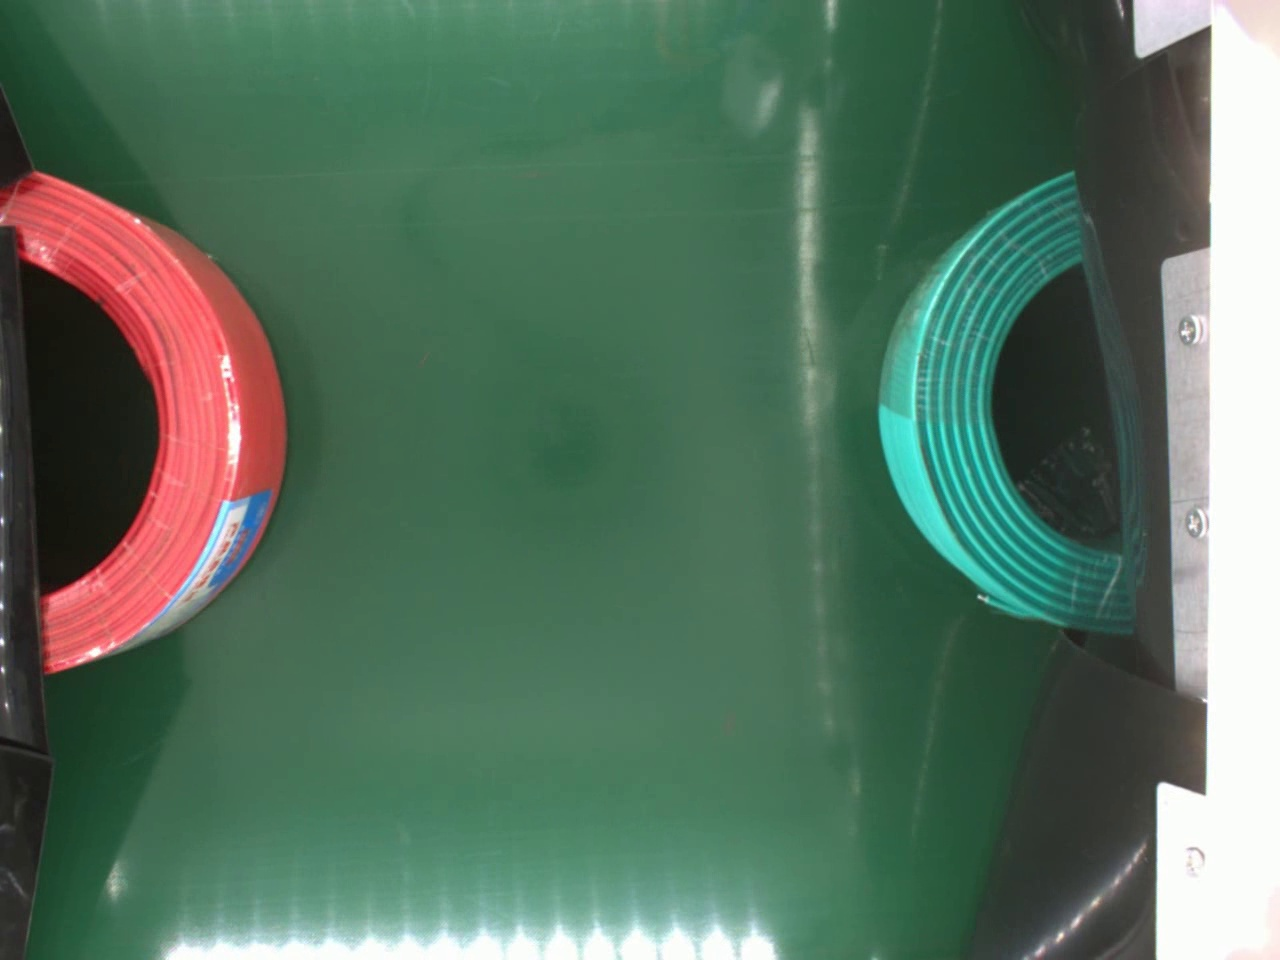green: (875, 168, 1140, 636)
red: (0, 168, 293, 678)
